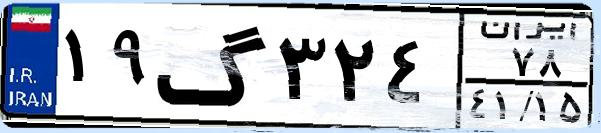1: (57, 26, 110, 100), (495, 70, 520, 125), (535, 70, 560, 125)
2: (330, 28, 385, 110)
3: (270, 28, 330, 110)
4: (385, 28, 445, 110), (470, 70, 495, 125)
5: (560, 70, 590, 125)
7: (508, 27, 537, 80)
8: (537, 27, 568, 80)
9: (110, 28, 156, 98)
گ: (156, 12, 270, 120)
